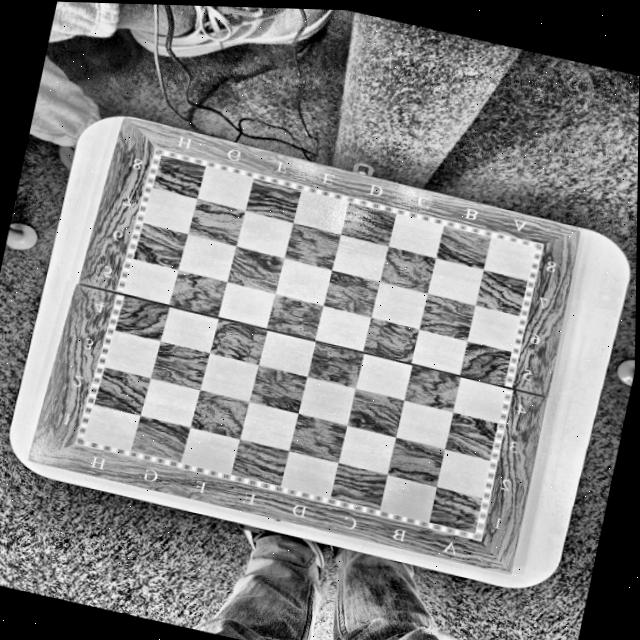chessboard: (73, 146, 544, 541)
p1: (468, 525, 479, 535)
p2: (529, 244, 538, 252)
p3: (157, 151, 168, 161)
p4: (80, 433, 89, 442)
